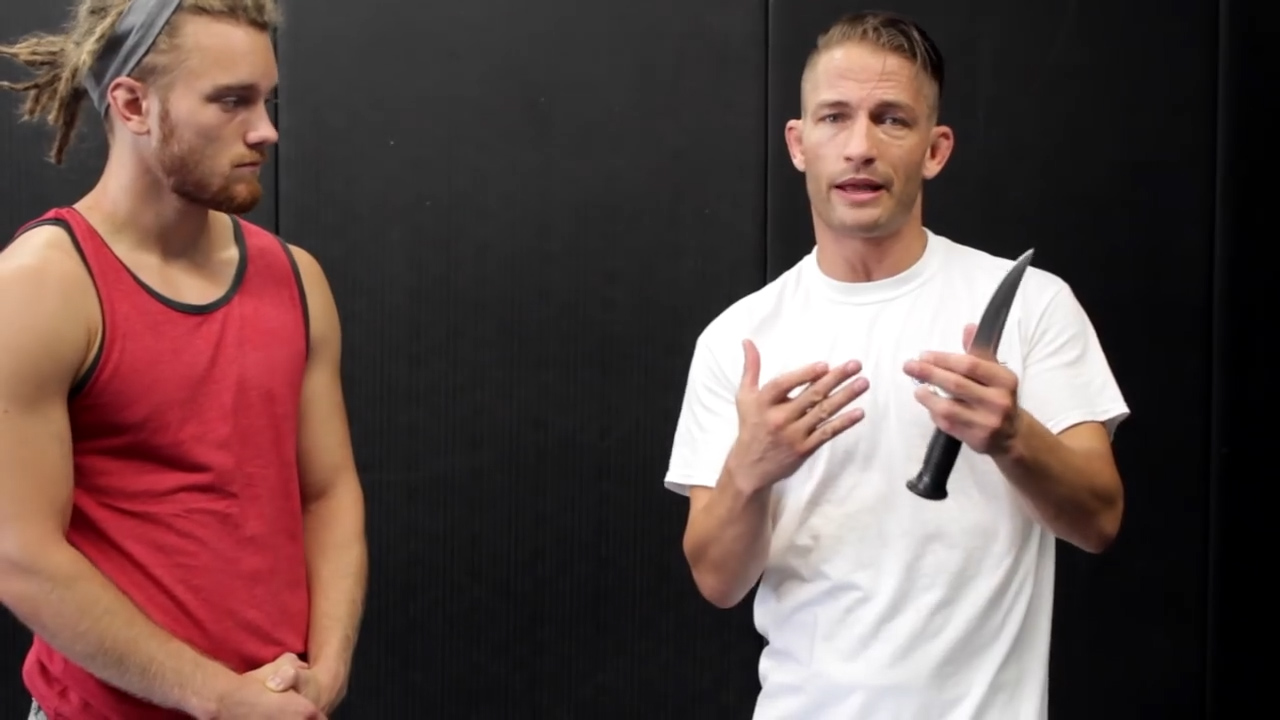knife: (895, 239, 1053, 508)
